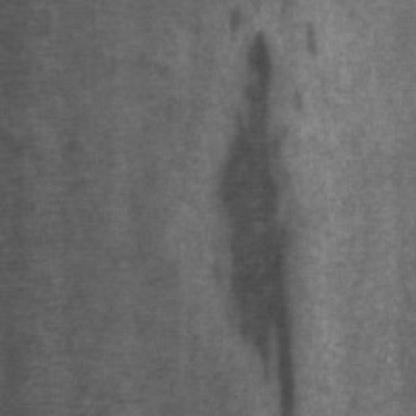inclusion: (218, 21, 308, 412), (300, 8, 332, 67)
